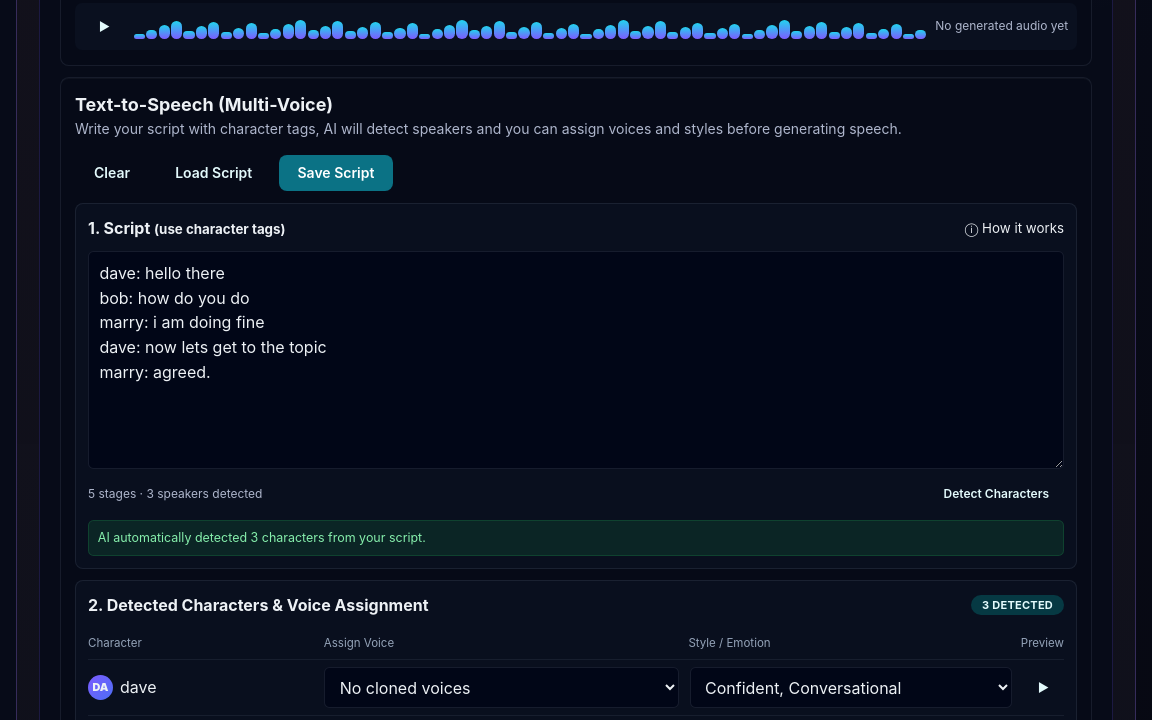
Test: provider-backed feature submit feedback › surfaces TTS job failures
(page scrolled)
Check: the heading "Text-to-Speech (Multi-Voice)" is shown, box [75,94,333,116]
Replace the text in the text box named "Script" with "Narrator: Read this aloud." at (576, 360), box [88,251,1064,469]
(page scrolled)
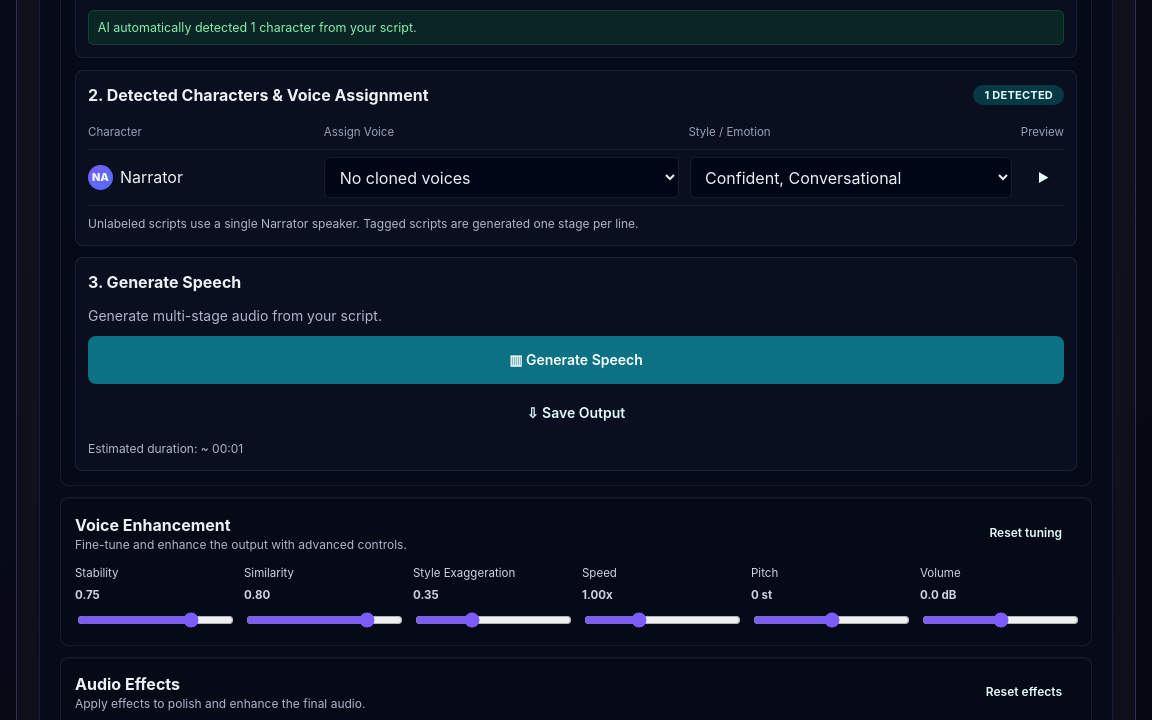
Click the button "▥ Generate Speech" at (576, 360), box [88,336,1064,384]
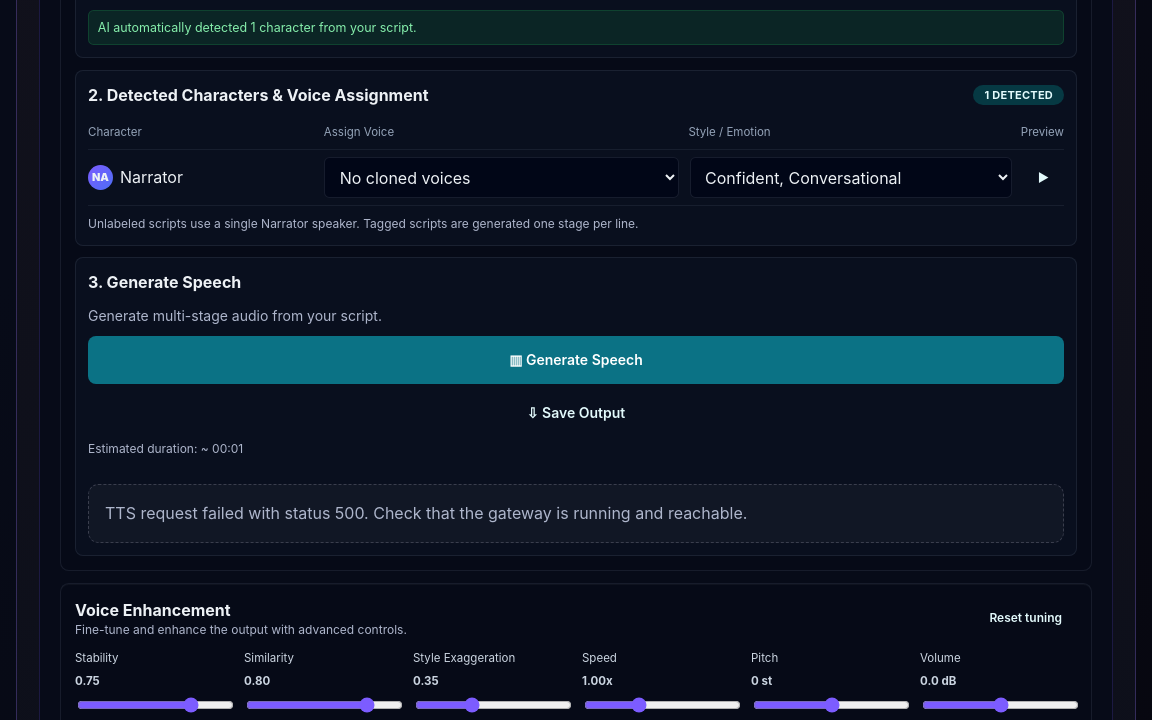
Check: the text "TTS request failed with status 500" is shown, box [105,503,747,523]
